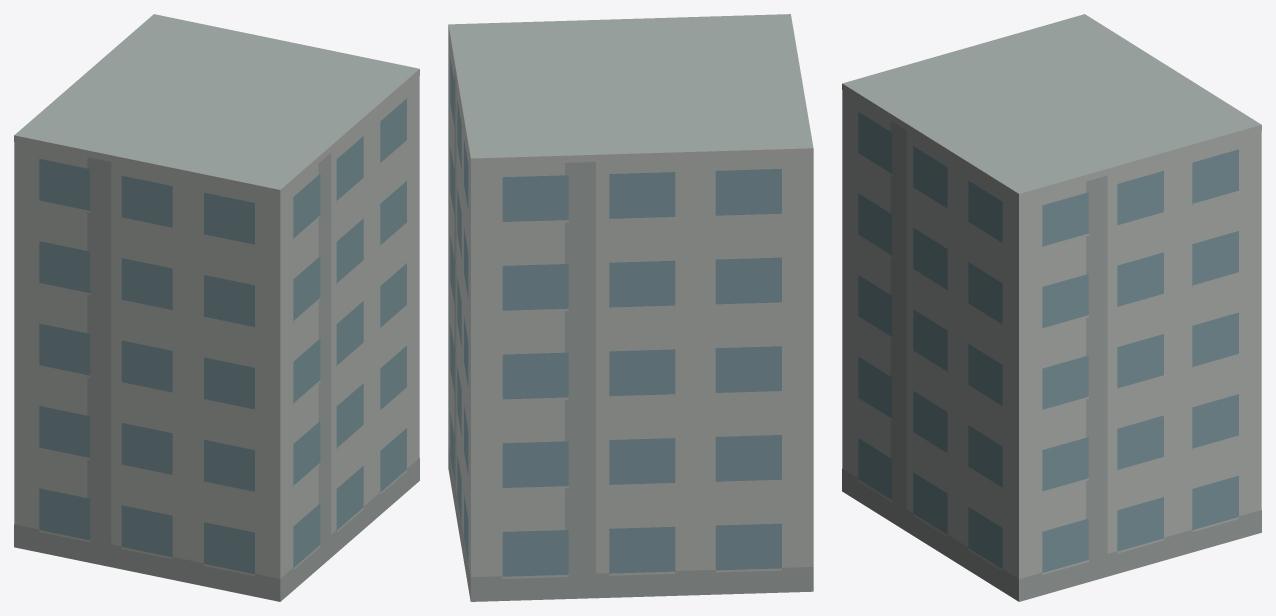
Rendered from residential-fea29fb3-004d-4435-a8e4-7200e8b5e016.glb.
3 renders of one model, left to right at view 1: azimuth 30°, elevation 25°; view 2: azimuth 150°, elevation 25°; view 3: azimuth 270°, elevation 25°, orthographic. The views are drawn at different scales.
Visible parts, largest first — view 1: residential-fea29fb3-004d-4435-a8e4-7200e8b5e016.tmp; view 2: residential-fea29fb3-004d-4435-a8e4-7200e8b5e016.tmp; view 3: residential-fea29fb3-004d-4435-a8e4-7200e8b5e016.tmp.
Part boxes in pixels (<box>): residential-fea29fb3-004d-4435-a8e4-7200e8b5e016.tmp: <box>14,14,419,601</box>; residential-fea29fb3-004d-4435-a8e4-7200e8b5e016.tmp: <box>448,14,813,601</box>; residential-fea29fb3-004d-4435-a8e4-7200e8b5e016.tmp: <box>842,14,1261,601</box>.
Bounding box in the file's own units: 14.15 × 14.95 × 13.95.
